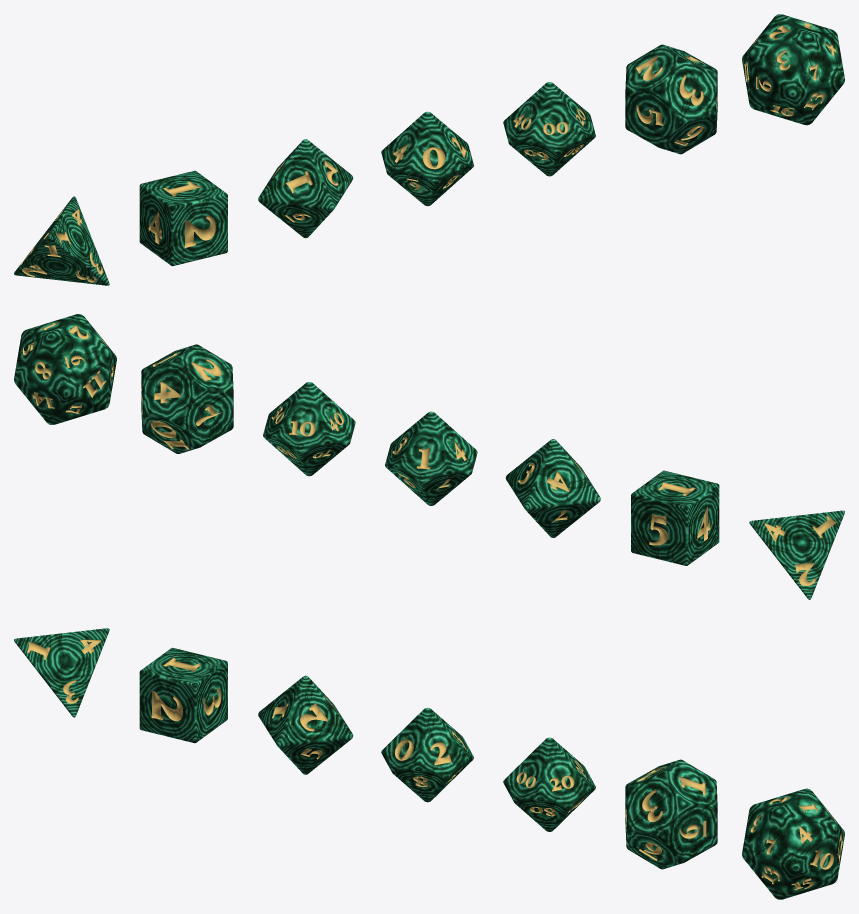
File: malachite.glb
The picture shows the model from 3 angles, top to bottom: view 1: azimuth 30°, elevation 25°; view 2: azimuth 150°, elevation 25°; view 3: azimuth 330°, elevation 25°; orthographic projection.
Visible parts, largest first — view 1: d20, d12, d6, d100, d10, d8, d4; view 2: d20, d12, d6, d100, d10, d8, d4; view 3: d20, d12, d6, d8, d100, d10, d4.
Part boxes in pixels (box(x1,y1,x2,y2)): d20: box(742, 14, 844, 125); d12: box(625, 44, 717, 154); d6: box(139, 170, 227, 266); d100: box(503, 82, 595, 176); d10: box(381, 111, 473, 206); d8: box(258, 139, 353, 238); d4: box(14, 196, 109, 285); d20: box(14, 314, 116, 424); d12: box(141, 344, 233, 453); d6: box(631, 470, 719, 565); d100: box(263, 382, 355, 476); d10: box(385, 411, 477, 505); d8: box(505, 439, 600, 537); d4: box(749, 510, 844, 599); d20: box(742, 788, 844, 899); d12: box(625, 759, 717, 869); d6: box(139, 647, 227, 743); d8: box(258, 675, 353, 774); d100: box(503, 737, 595, 831); d10: box(381, 707, 473, 802); d4: box(14, 628, 109, 717).
Bounding box in the file's own units: 21.14 × 2.47 × 2.47.
14 materials, 7 textured.
